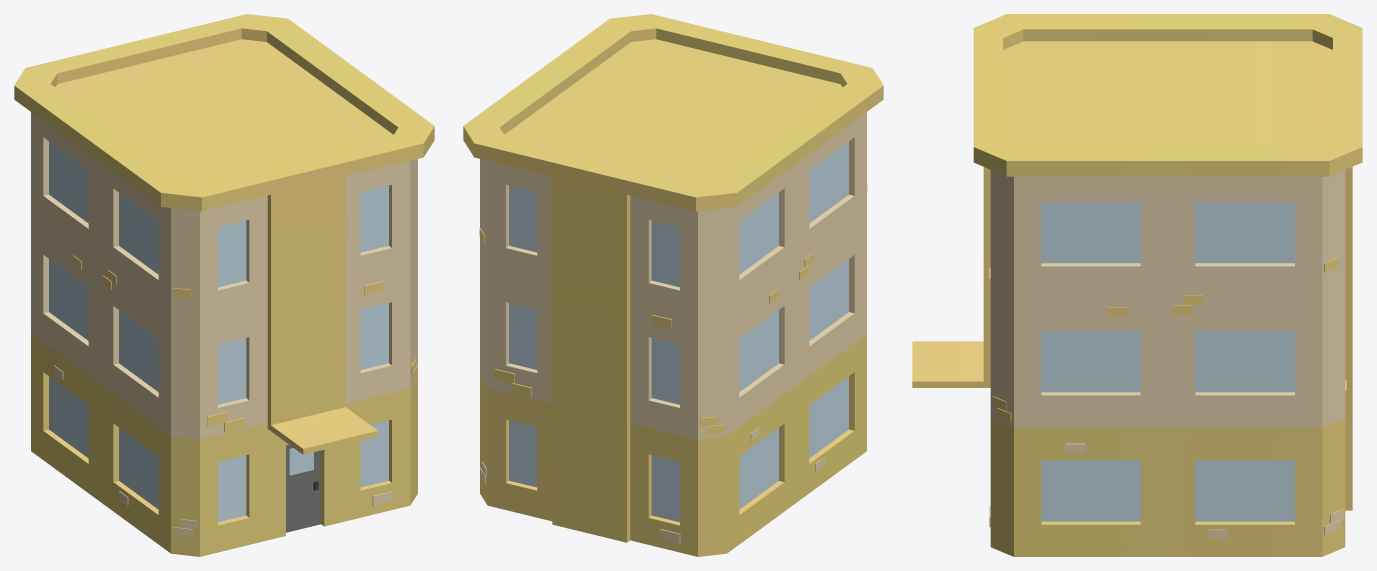
The model's file is city_building_2.glb.
The picture shows the model from 3 angles, left to right: view 1: azimuth 30°, elevation 25°; view 2: azimuth 150°, elevation 25°; view 3: azimuth 270°, elevation 25°; orthographic projection. The views are drawn at different scales.
Parts seen in each view (by area): view 1: Building_8_Mat_0; view 2: Building_8_Mat_0; view 3: Building_8_Mat_0.
Boxes of the visible parts, box(x1,y1,x2,y2) form: Building_8_Mat_0: box(14, 14, 434, 556); Building_8_Mat_0: box(463, 14, 883, 556); Building_8_Mat_0: box(912, 14, 1362, 556).
Size of the model in its own units: 3.98 by 5.09 by 5.15.
Materials: 1 (1 with a texture image).
